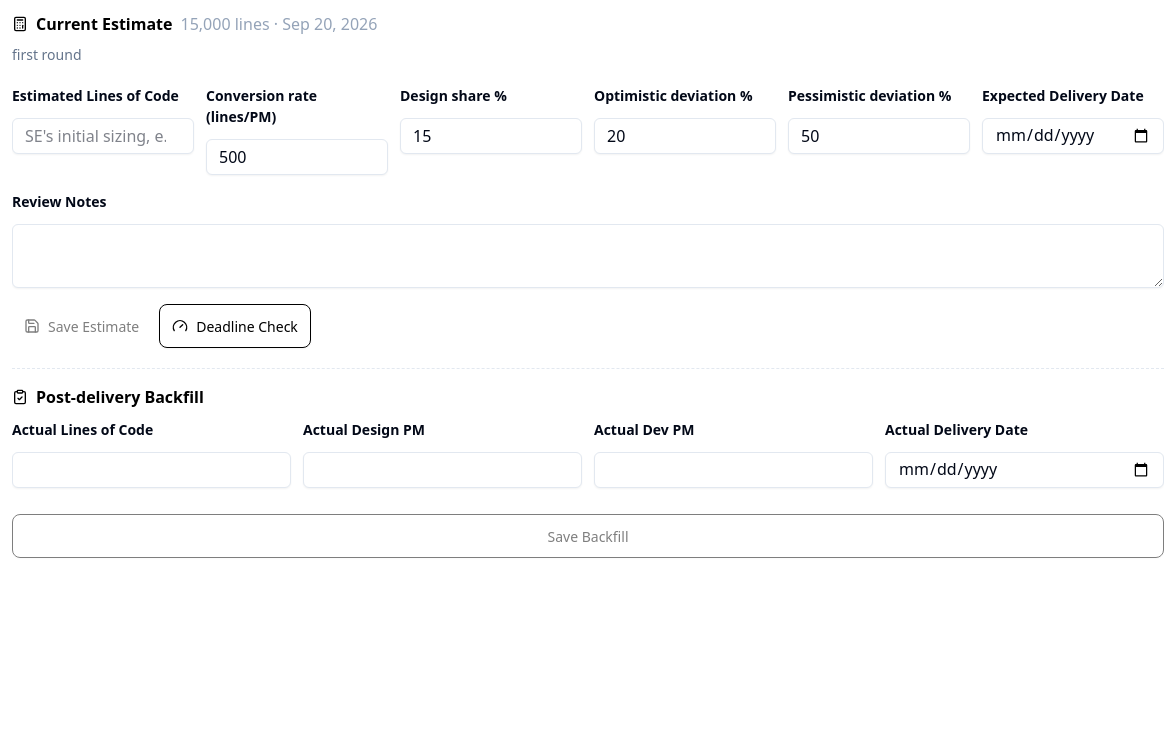
Test case: EstimationPanel › R07: out-of-range share is rejected before submit with a visible message
Check: the text "Current Estimate" is shown, box [36, 12, 172, 36]
Type "500" into the number field labelled "Estimated Lines of Code".
click(103, 136); type("500")  # box [12, 118, 194, 154]
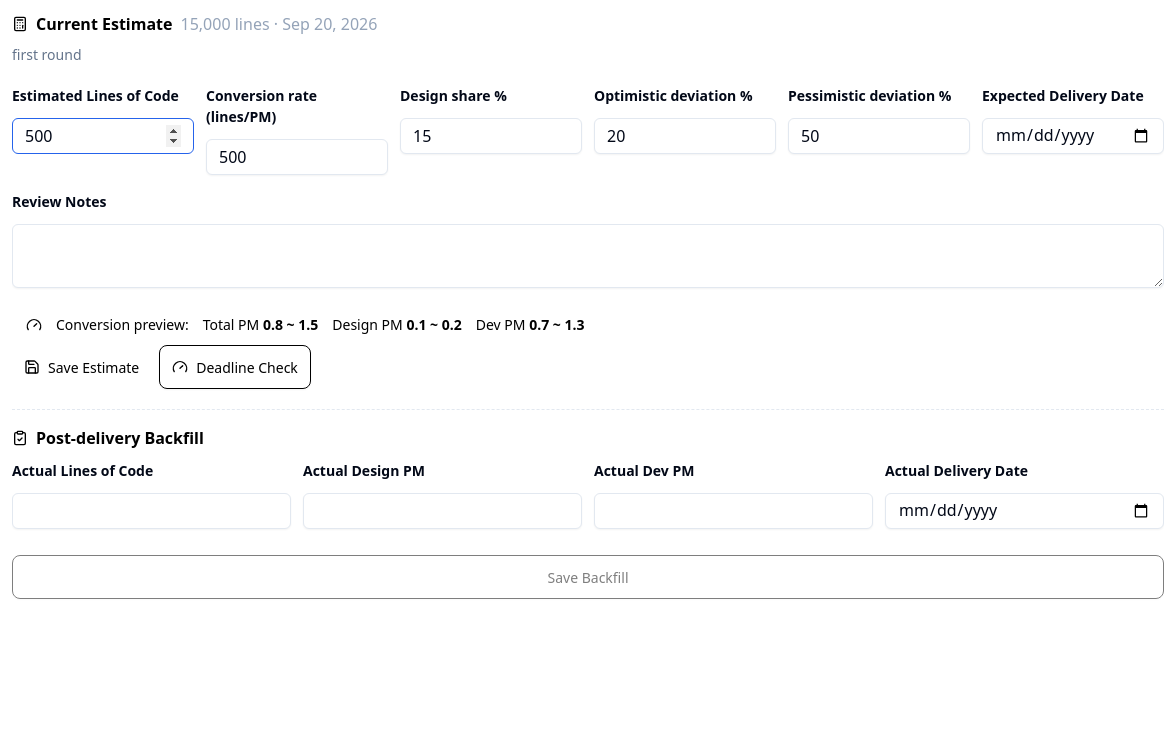
Replace the text in the number field labelled "Design share %" with "150" at (491, 136), box [400, 118, 582, 154]
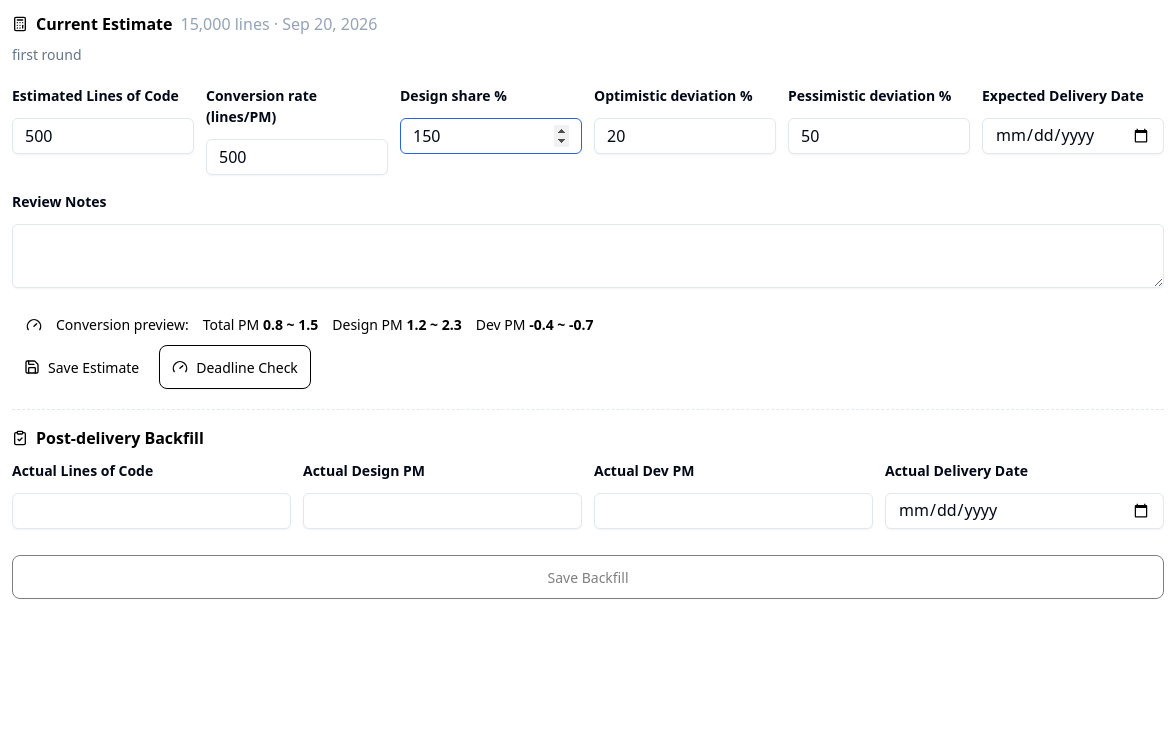
Click the button "Save Estimate".
click(82, 367)  # box [12, 345, 151, 389]
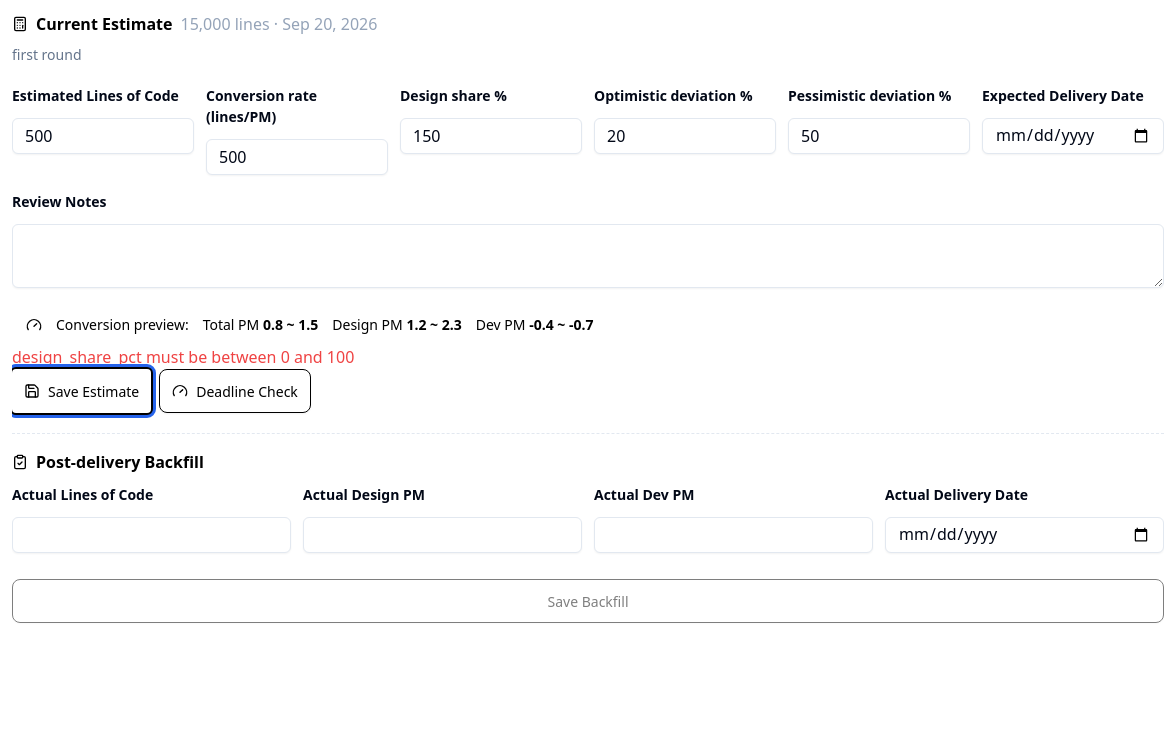
Check: the text "design_share_pct must be between 0 and 100" is shown, box [12, 346, 354, 368]
